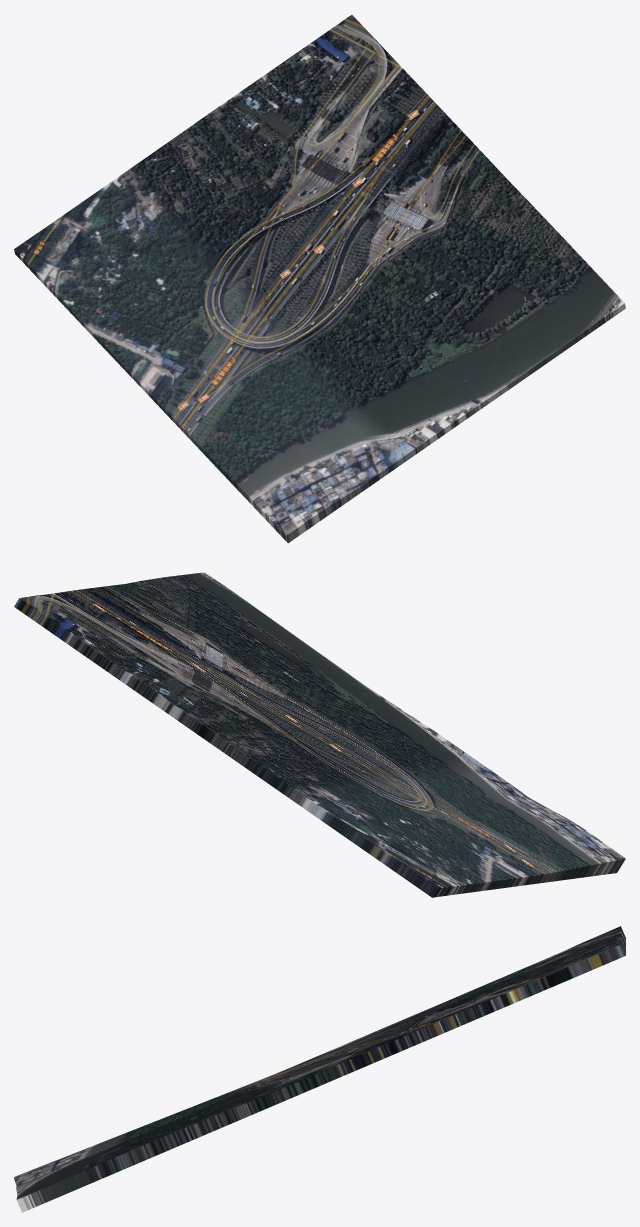
The picture shows the model from 3 angles, top to bottom: view 1: azimuth 30°, elevation 25°; view 2: azimuth 150°, elevation 25°; view 3: azimuth 270°, elevation 25°; orthographic projection. The views are drawn at different scales.
Parts seen in each view (by area): view 1: 0_20_26; view 2: 0_20_26; view 3: 0_20_26.
Boxes of the visible parts, box(x1,y1,x2,y2) form: 0_20_26: box(14, 14, 625, 543); 0_20_26: box(14, 572, 625, 897); 0_20_26: box(14, 926, 625, 1212).
Size of the model in its own units: 596 by 437 by 549.
1 material, 1 textured.
